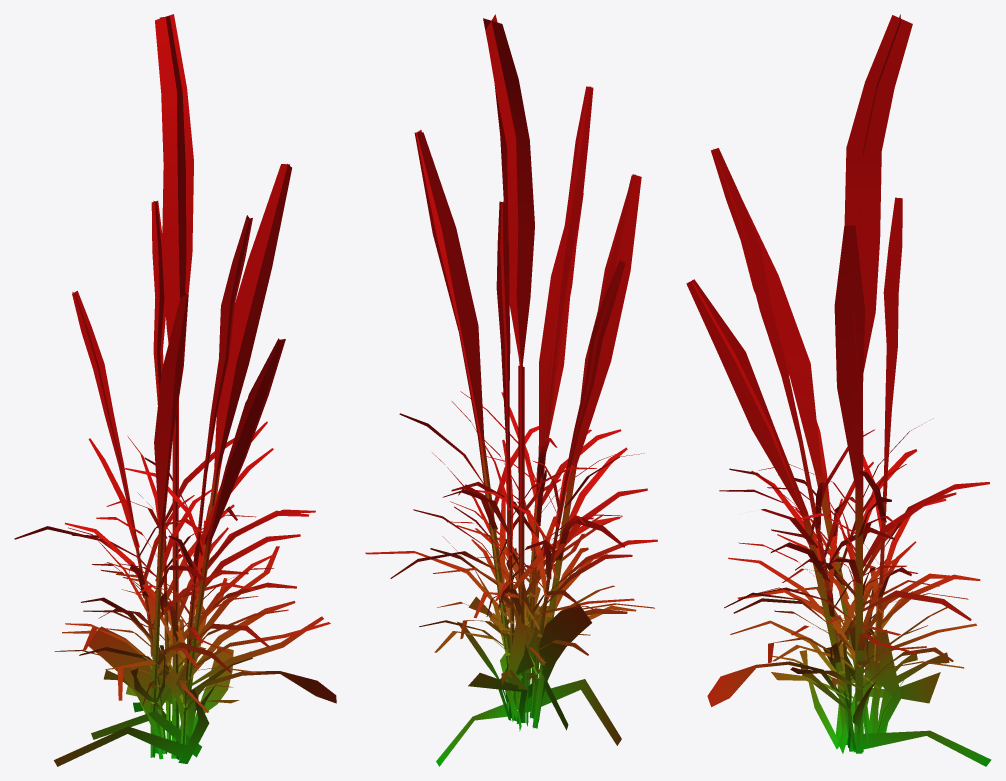
The model's file is Var2_LOD2.fbx.
3 views of the same model, side by side, from view 1: azimuth 30°, elevation 25°; view 2: azimuth 150°, elevation 25°; view 3: azimuth 270°, elevation 25° (orthographic). The views are drawn at different scales.
Visible parts, largest first — view 1: _4a75_Var2_LOD2; view 2: _4a75_Var2_LOD2; view 3: _4a75_Var2_LOD2.
Boxes of the visible parts, x1,y1,x2,y2 form: _4a75_Var2_LOD2: (14, 14, 336, 766); _4a75_Var2_LOD2: (365, 14, 657, 766); _4a75_Var2_LOD2: (686, 14, 991, 766).
Bounding box in the file's own units: 22.09 × 58.41 × 21.65.
